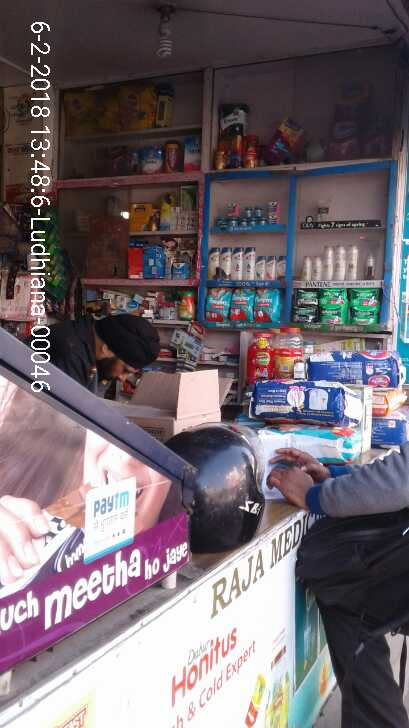vicks: (213, 196, 284, 232)
